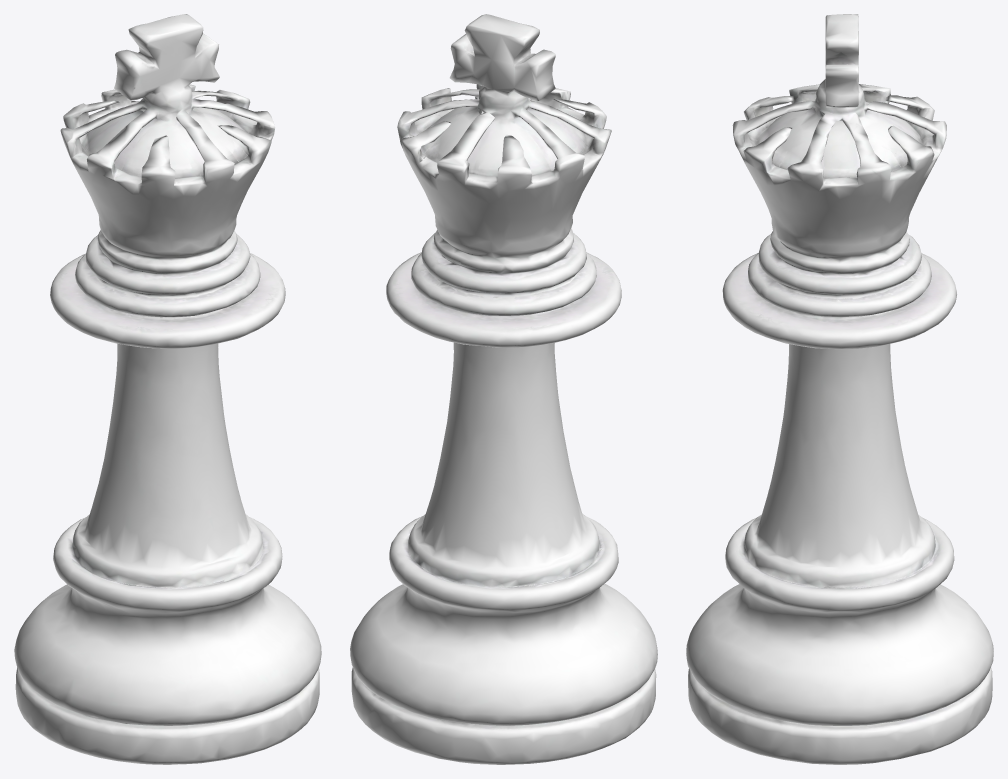
Rendered from Meshy_rook.glb.
The picture shows the model from 3 angles, left to right: view 1: azimuth 30°, elevation 25°; view 2: azimuth 150°, elevation 25°; view 3: azimuth 270°, elevation 25°; orthographic projection.
Bounding box in the file's own units: 0.8214 × 2 × 0.8221.
Materials: 1 (1 with a texture image).
